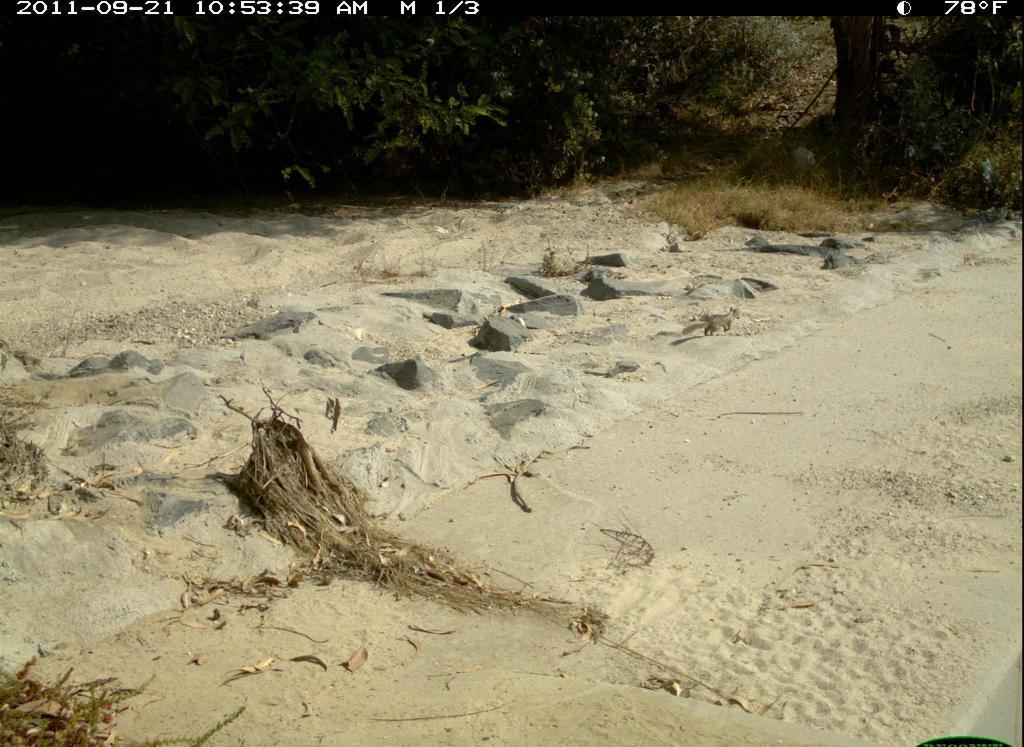squirrel: (675, 301, 744, 346)
